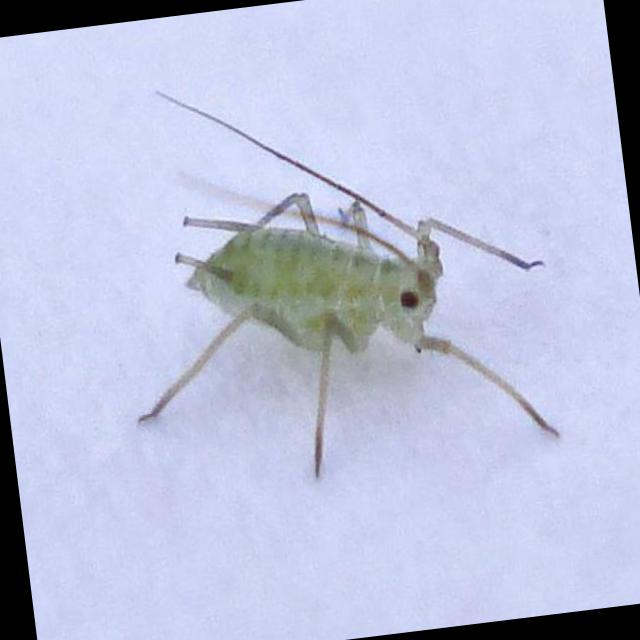aphid: (140, 64, 576, 524)
